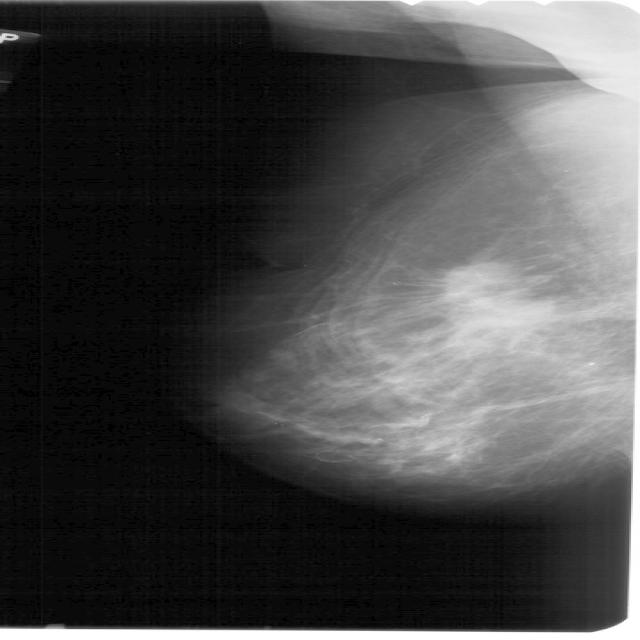tumour: (437, 262, 552, 336)
